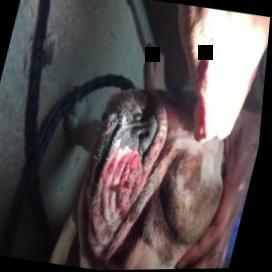skin_lesions: (111, 142, 161, 214)
